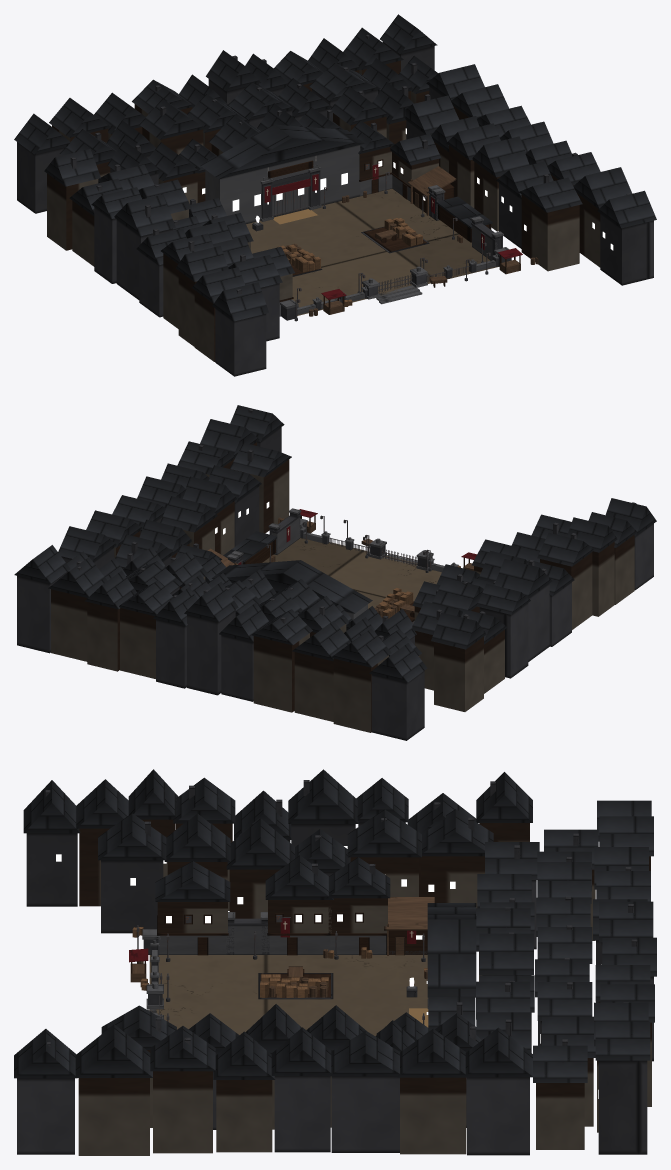
Rendered from town_station_05.glb.
3 renders of one model, top to bottom at view 1: azimuth 30°, elevation 25°; view 2: azimuth 150°, elevation 25°; view 3: azimuth 270°, elevation 25°, orthographic. The views are drawn at different scales.
Visible parts, largest first — view 1: _MeshInstance3D_3307, _MeshInstance3D_3958, _MeshInstance3D_3959, _MeshInstance3D_3704, _MeshInstance3D_3732, _MeshInstance3D_3645, _MeshInstance3D_3396, _MeshInstance3D_3615, _MeshInstance3D_3627, _MeshInstance3D_3628, _MeshInstance3D_3623, _MeshInstance3D_3697 (+73 smaller); view 2: _MeshInstance3D_3307, _MeshInstance3D_3615, _MeshInstance3D_3396, _MeshInstance3D_3959, _MeshInstance3D_3404, _MeshInstance3D_3410, _MeshInstance3D_3399, _MeshInstance3D_3401, _MeshInstance3D_3430, _MeshInstance3D_3425, _MeshInstance3D_3418, _MeshInstance3D_3422 (+65 smaller); view 3: _MeshInstance3D_3307, _MeshInstance3D_3729, _MeshInstance3D_3714, _MeshInstance3D_3711, _MeshInstance3D_3726, _MeshInstance3D_3708, _MeshInstance3D_3430, _MeshInstance3D_3959, _MeshInstance3D_3732, _MeshInstance3D_3719, _MeshInstance3D_3723, _MeshInstance3D_3611 (+76 smaller).
Boxes of the visible parts, x1,y1,x2,y2 form: _MeshInstance3D_3307: [246, 188, 498, 315]; _MeshInstance3D_3958: [205, 145, 360, 223]; _MeshInstance3D_3959: [200, 124, 364, 179]; _MeshInstance3D_3704: [521, 194, 579, 271]; _MeshInstance3D_3732: [600, 213, 653, 285]; _MeshInstance3D_3645: [215, 308, 266, 376]; _MeshInstance3D_3396: [17, 142, 64, 213]; _MeshInstance3D_3615: [47, 173, 98, 250]; _MeshInstance3D_3627: [116, 219, 172, 299]; _MeshInstance3D_3628: [114, 194, 175, 236]; _MeshInstance3D_3623: [94, 207, 116, 283]; _MeshInstance3D_3697: [472, 136, 529, 177]; _MeshInstance3D_3307: [262, 538, 441, 623]; _MeshInstance3D_3615: [434, 636, 483, 711]; _MeshInstance3D_3396: [371, 671, 424, 740]; _MeshInstance3D_3959: [211, 560, 372, 613]; _MeshInstance3D_3404: [253, 633, 309, 712]; _MeshInstance3D_3410: [187, 610, 235, 695]; _MeshInstance3D_3399: [333, 655, 388, 732]; _MeshInstance3D_3401: [294, 652, 333, 721]; _MeshInstance3D_3430: [17, 571, 67, 653]; _MeshInstance3D_3425: [51, 589, 87, 661]; _MeshInstance3D_3418: [120, 608, 155, 678]; _MeshInstance3D_3422: [87, 602, 119, 671]; _MeshInstance3D_3307: [149, 955, 428, 1036]; _MeshInstance3D_3729: [78, 1078, 149, 1155]; _MeshInstance3D_3714: [331, 1076, 399, 1152]; _MeshInstance3D_3711: [400, 1077, 466, 1154]; _MeshInstance3D_3726: [153, 1071, 212, 1153]; _MeshInstance3D_3708: [467, 1077, 529, 1155]; _MeshInstance3D_3430: [598, 1060, 647, 1154]; _MeshInstance3D_3959: [427, 903, 476, 997]; _MeshInstance3D_3732: [17, 1078, 74, 1154]; _MeshInstance3D_3719: [274, 1076, 330, 1152]; _MeshInstance3D_3723: [216, 1080, 272, 1152]; _MeshInstance3D_3611: [101, 860, 163, 933].
Size of what is drawn, in the model's own units: 66.1 by 15.32 by 65.92.
16 materials, 11 textured.
